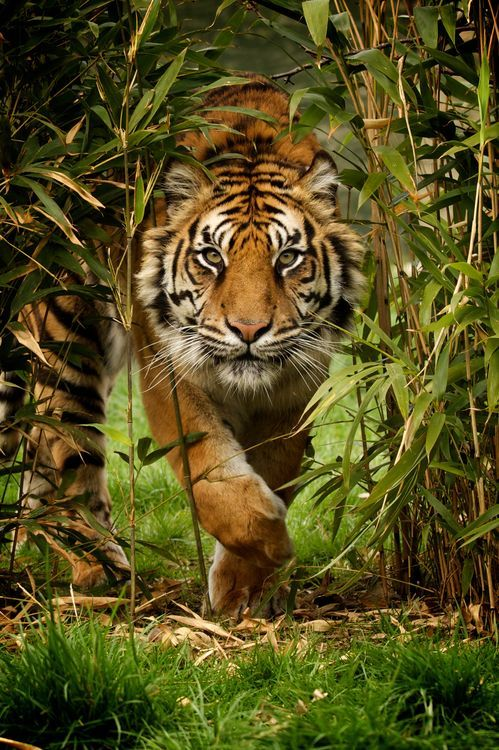Tigrew: (69, 46, 454, 629)
